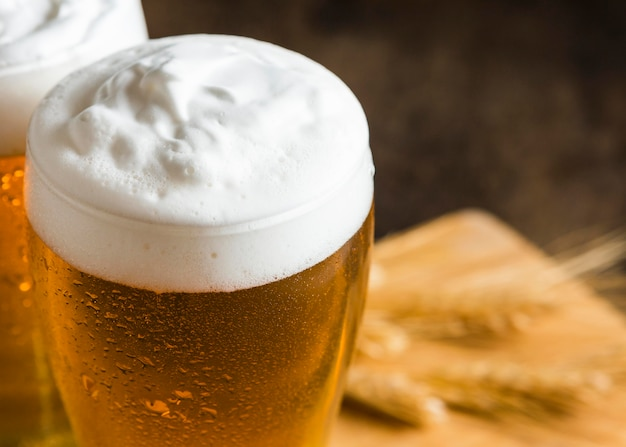alcohol: (25, 33, 376, 447), (0, 0, 156, 447)
